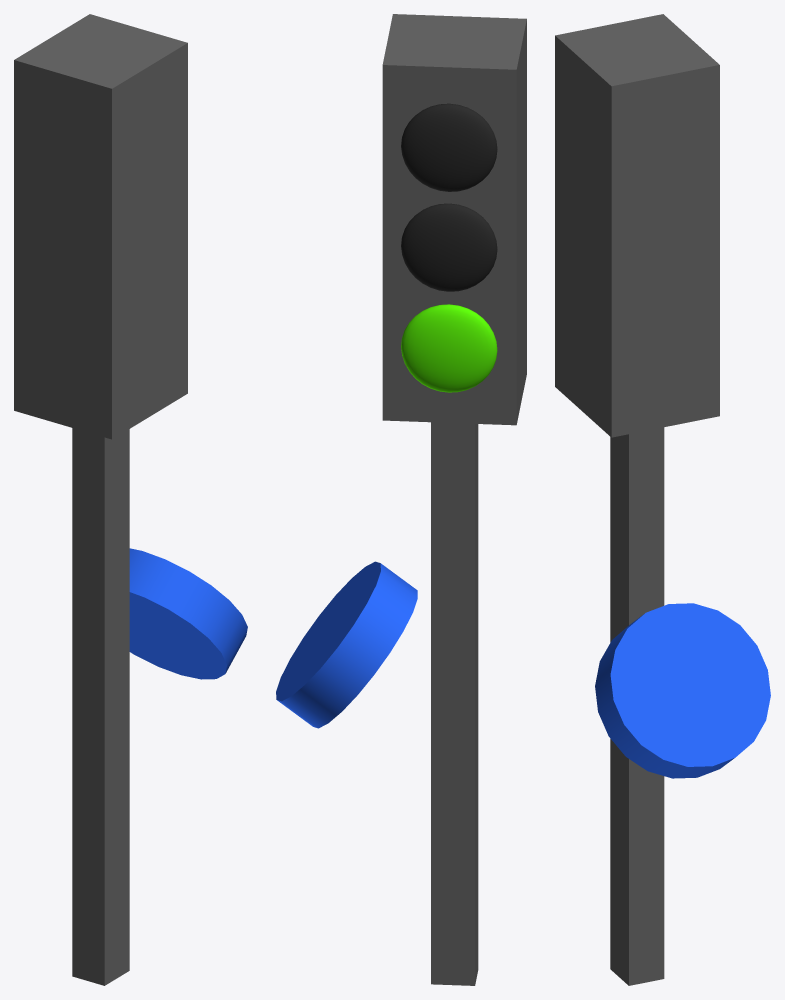
Rendered from 20250212-TrafficLight (ForAndSelect).glb.
3 renders of one model, left to right at view 1: azimuth 30°, elevation 25°; view 2: azimuth 150°, elevation 25°; view 3: azimuth 270°, elevation 25°, orthographic.
Visible parts, largest first — view 1: Cube, Cube (1), Cylinder; view 2: Cube, Cube (1), Cylinder, Bottom, Middle, Top; view 3: Cube, Cylinder, Cube (1).
Boxes of the visible parts, bbox=[...] form: Cube: bbox=[14, 14, 187, 439]; Cube (1): bbox=[72, 428, 129, 985]; Cylinder: bbox=[129, 548, 247, 679]; Cube: bbox=[382, 14, 526, 425]; Cube (1): bbox=[431, 422, 478, 985]; Cylinder: bbox=[276, 561, 417, 728]; Bottom: bbox=[401, 304, 497, 392]; Middle: bbox=[401, 203, 497, 291]; Top: bbox=[401, 103, 497, 191]; Cube: bbox=[555, 14, 719, 437]; Cylinder: bbox=[595, 603, 770, 778]; Cube (1): bbox=[610, 427, 664, 985].
Size of the model in its own units: 1.11 by 4.37 by 0.9264.
